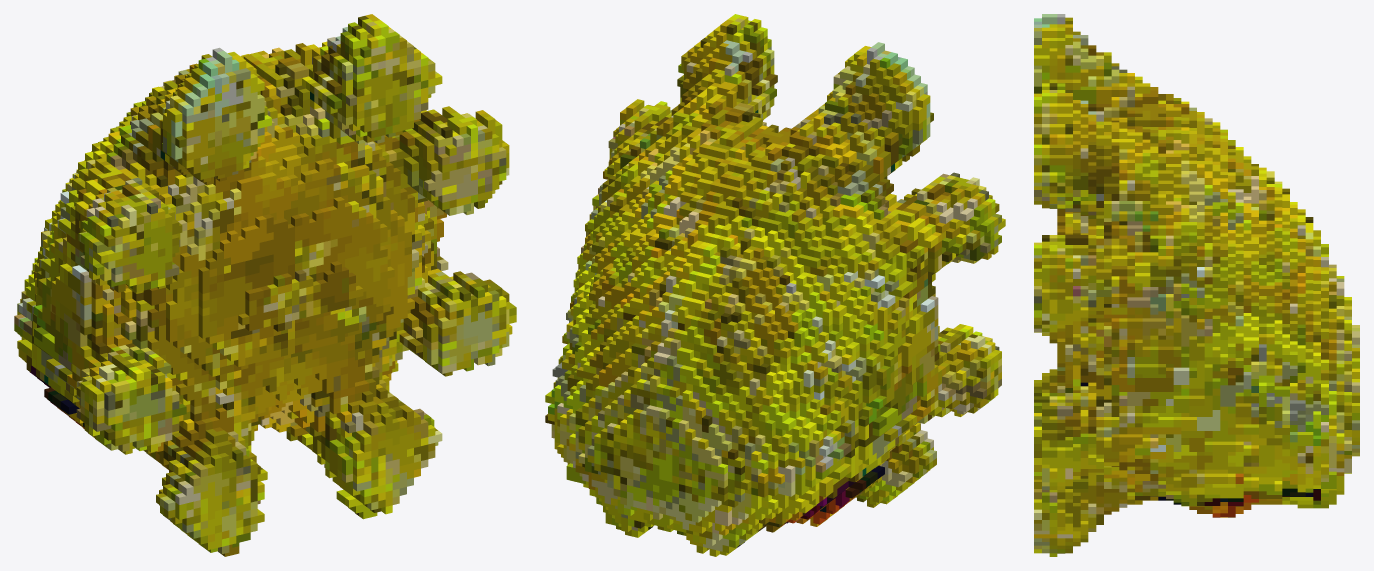
File: SlimeDog.fbx
3 views of the same model, side by side, from view 1: azimuth 30°, elevation 25°; view 2: azimuth 150°, elevation 25°; view 3: azimuth 270°, elevation 25° (orthographic). The views are drawn at different scales.
Visible parts, largest first — view 1: SlimeDogMesh; view 2: SlimeDogMesh; view 3: SlimeDogMesh.
Part boxes in pixels (box(x1,y1,x2,y2)): SlimeDogMesh: box(14, 14, 516, 556); SlimeDogMesh: box(545, 14, 1005, 556); SlimeDogMesh: box(1034, 14, 1359, 556).
Bounding box in the file's own units: 59 × 67 × 42.
